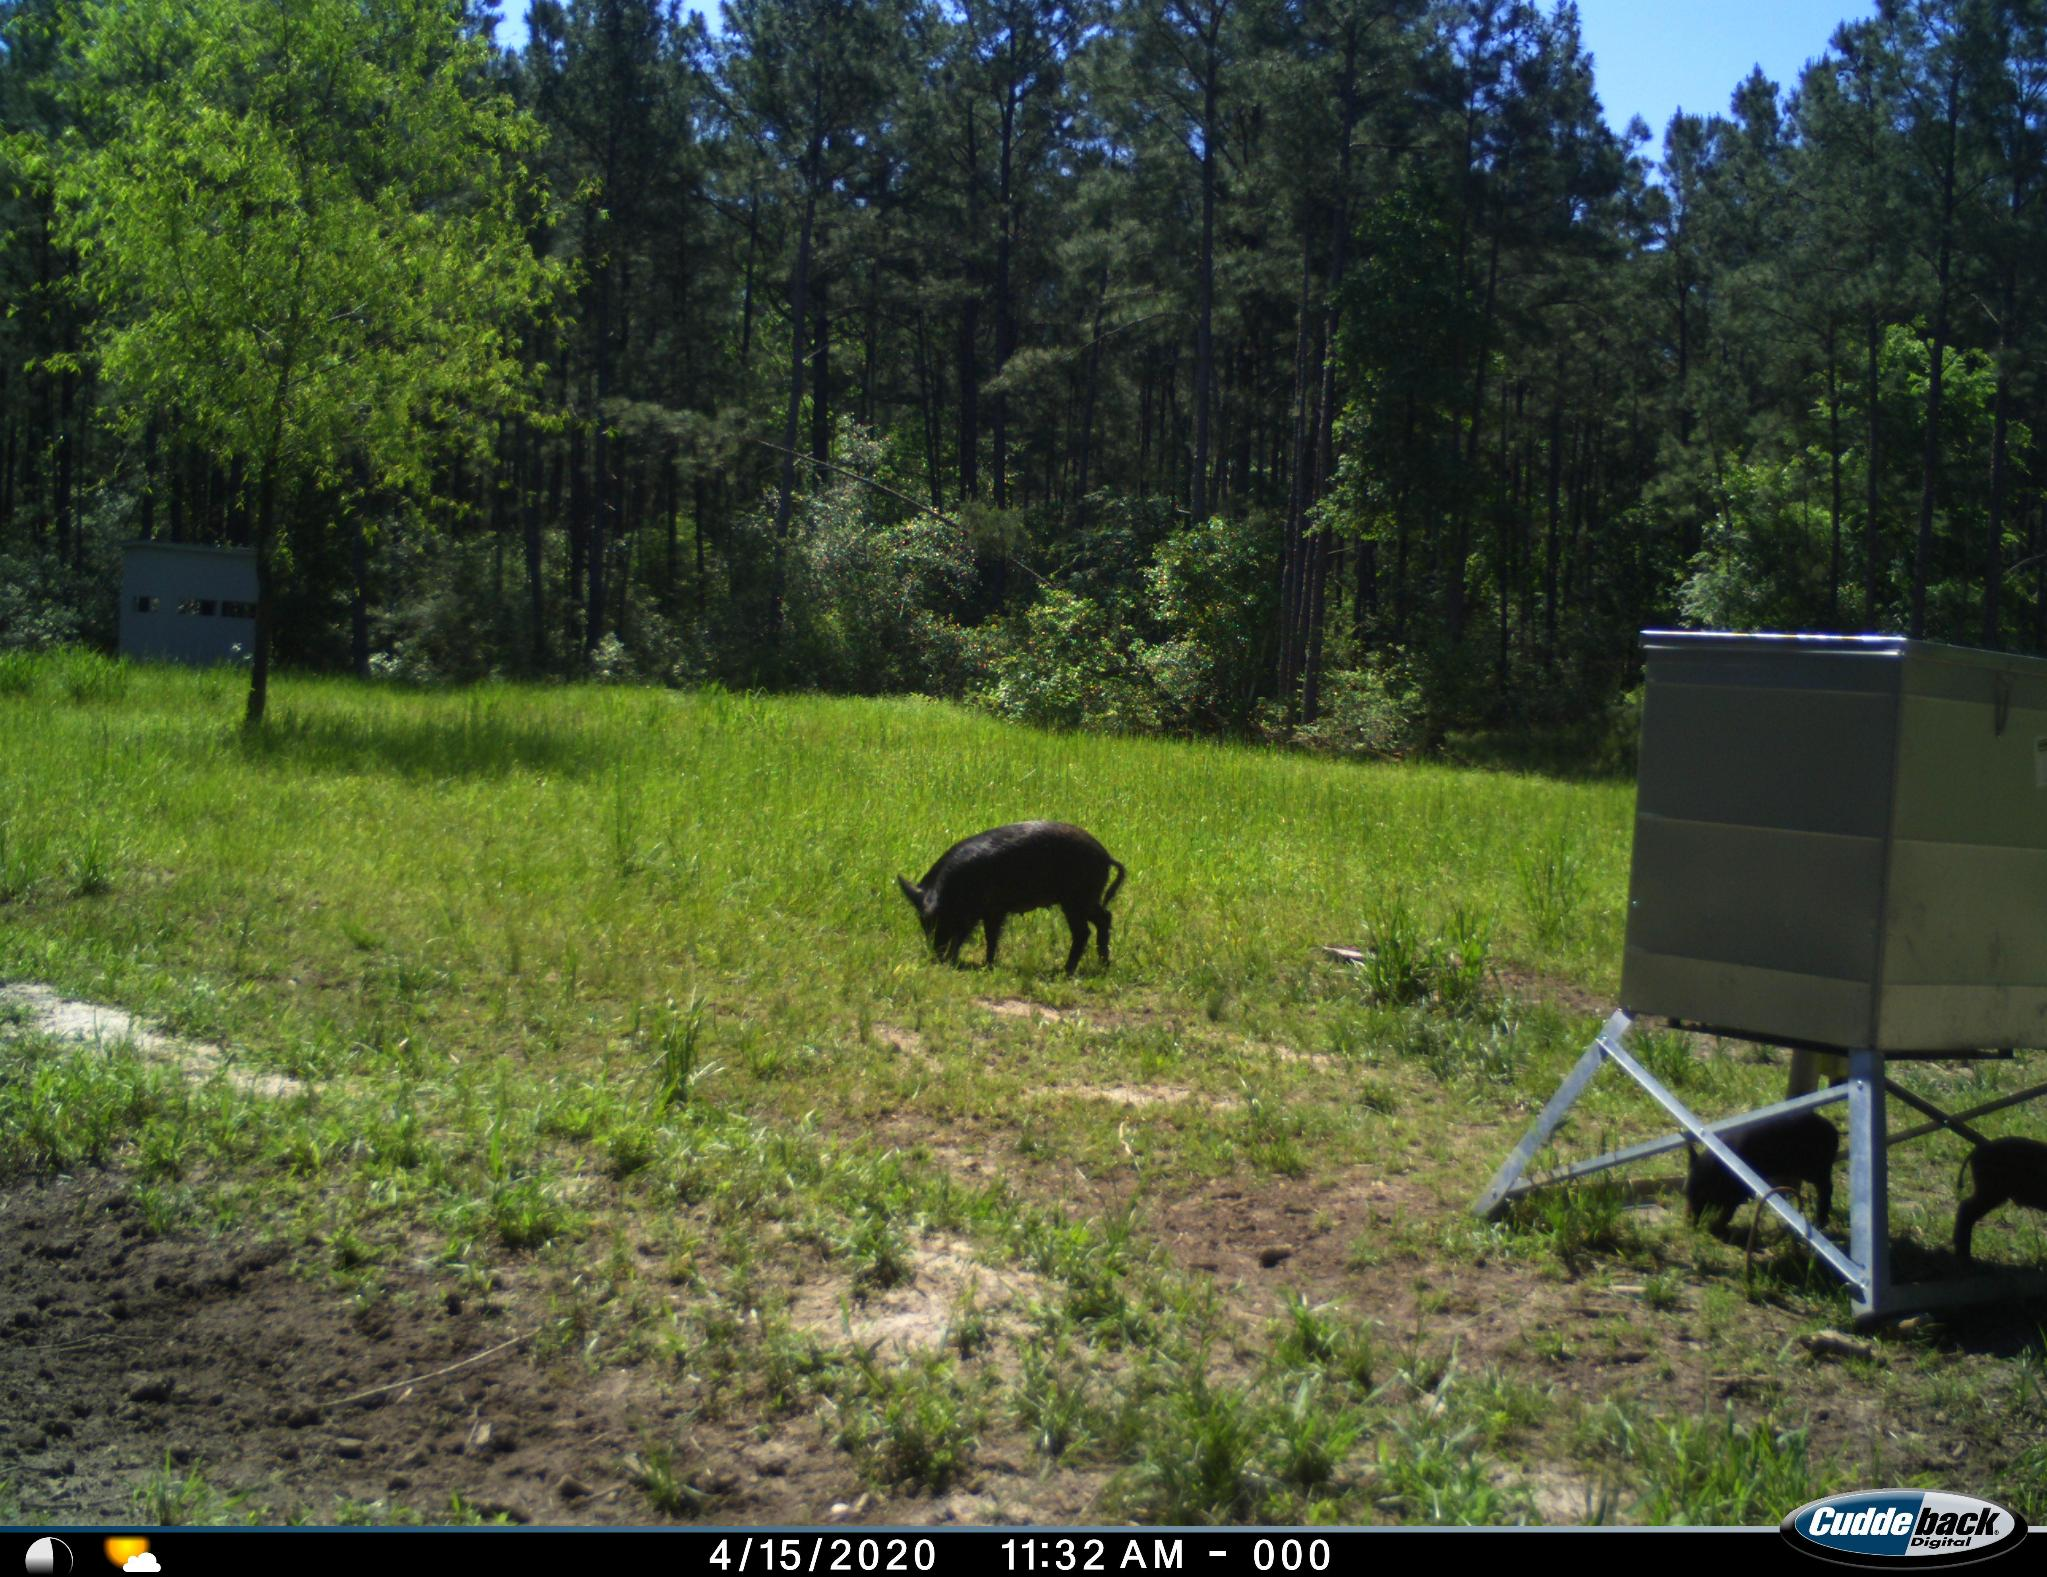Hog: (894, 817, 1123, 981), (1689, 1113, 1837, 1247), (1948, 1135, 2047, 1279)
